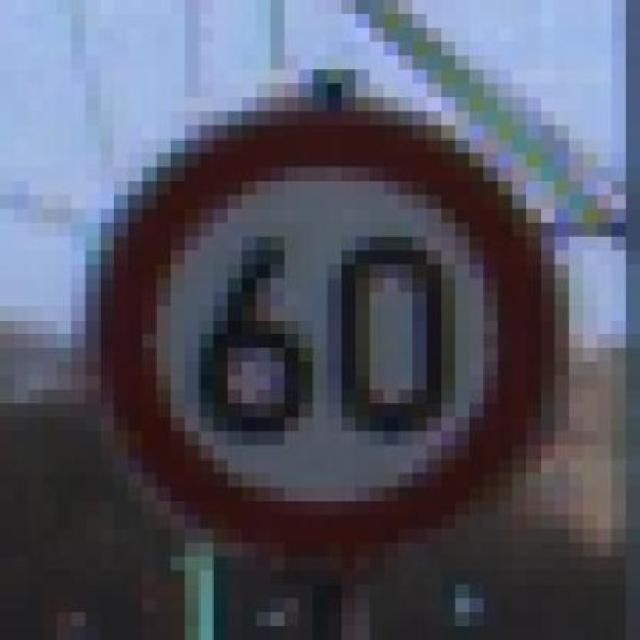forb_speed_over_60: (113, 119, 539, 539)
